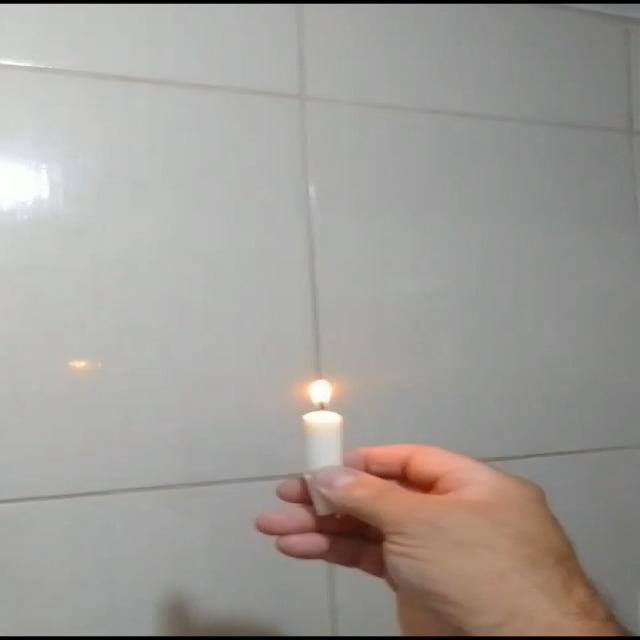fogo-ypXI: (302, 376, 340, 409)
